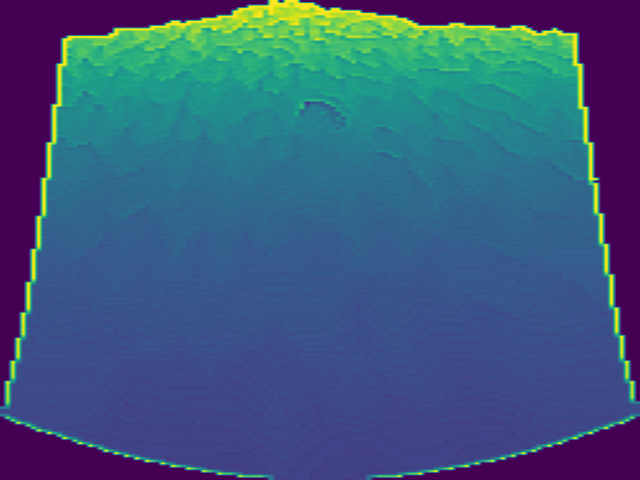car_0198: (295, 96, 345, 127)
